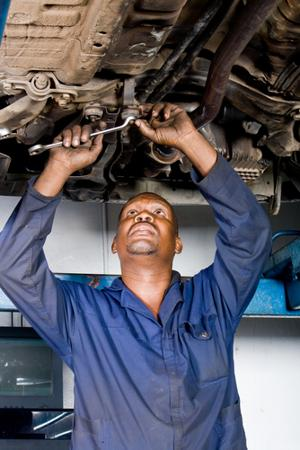person: (1, 101, 274, 449)
